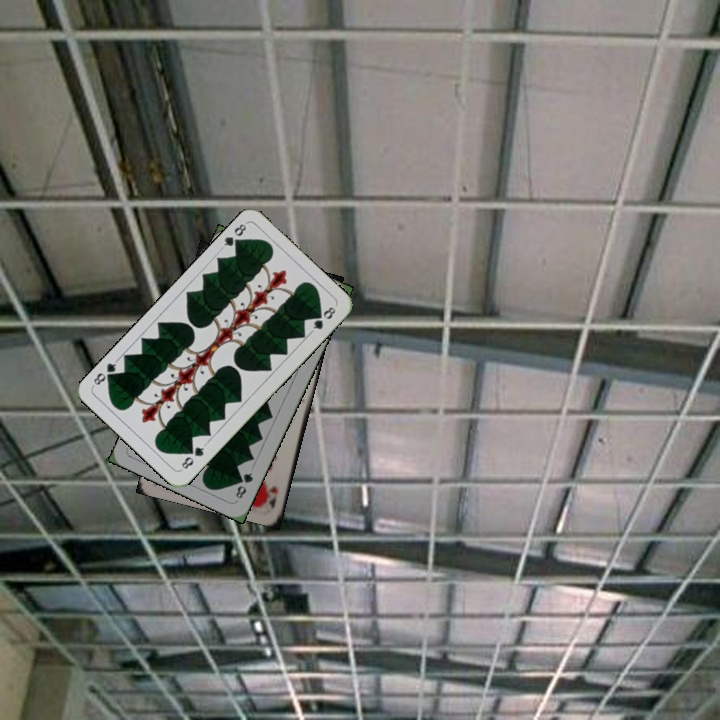G8: (217, 219, 249, 251), (177, 440, 208, 473), (231, 468, 256, 502)
HK: (261, 482, 280, 511)
